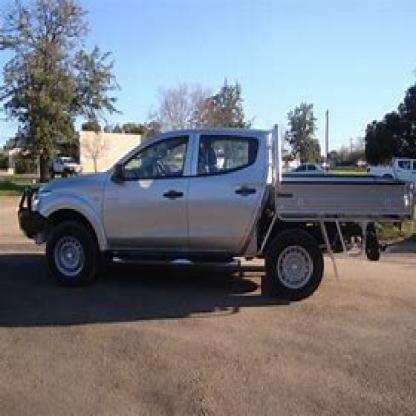light_vehicle: (12, 120, 414, 300)
